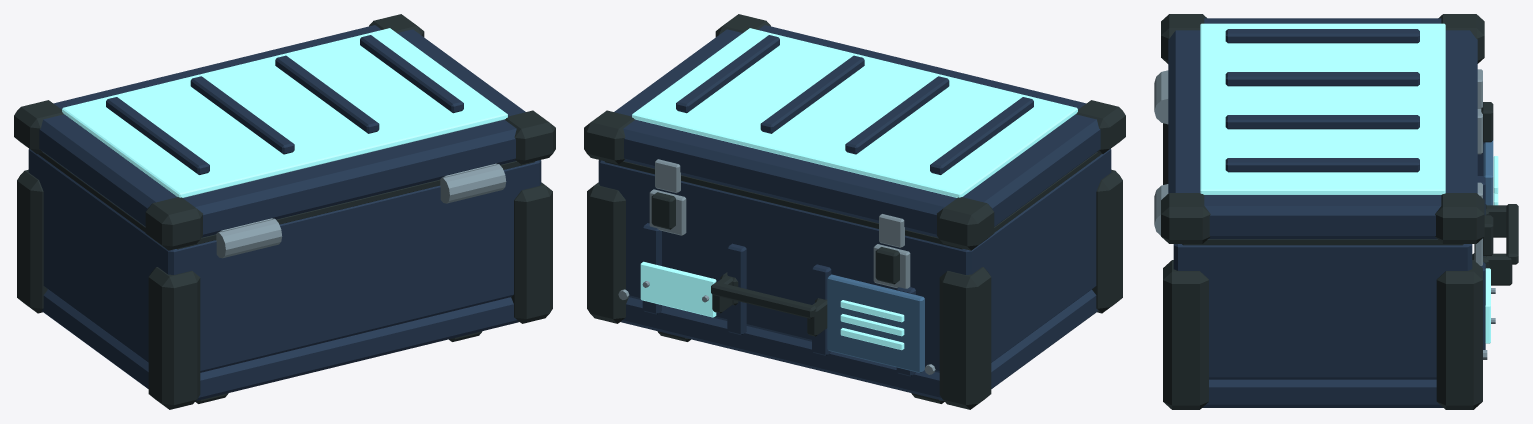
Rendered from marine_waterproof_case.glb.
The picture shows the model from 3 angles, left to right: view 1: azimuth 30°, elevation 25°; view 2: azimuth 150°, elevation 25°; view 3: azimuth 270°, elevation 25°; orthographic projection. The views are drawn at different scales.
Visible parts, largest first — view 1: body_back_wall, moving_lid_inset, moving_lid_shell, corner_guard (×3), body_left_wall, body_floor, moving_lid_rib (×4), moving_lid_corner (×4), hinge_body (×2), gasket_back, gasket_side; view 2: moving_lid_inset, moving_lid_shell, body_front_wall, corner_guard (×3), body_left_wall, body_floor, moving_lid_rib (×4), moving_lid_corner (×4), front_identity_panel, body_reinforcement (×3), type_plate, gasket_front (+7 smaller); view 3: body_right_wall, moving_lid_inset, moving_lid_shell, corner_guard (×3), moving_lid_rib (×4), body_floor, moving_lid_corner (×4), gasket_side, hinge_body (×2), latch_release (×2), carry_handle_bar, carry_handle_right (+3 smaller).
Boxes of the visible parts, bbox=[...] form: body_back_wall: bbox=[161, 161, 539, 372]; moving_lid_inset: bbox=[62, 28, 507, 197]; moving_lid_shell: bbox=[39, 25, 525, 237]; corner_guard (×3): bbox=[17, 169, 552, 409]; body_left_wall: bbox=[28, 149, 185, 362]; body_floor: bbox=[41, 289, 518, 400]; moving_lid_rib (×4): bbox=[106, 35, 463, 174]; moving_lid_corner (×4): bbox=[14, 14, 555, 250]; hinge_body (×2): bbox=[216, 164, 506, 258]; gasket_back: bbox=[176, 161, 534, 249]; gasket_side: bbox=[38, 152, 145, 232]; moving_lid_inset: bbox=[632, 28, 1077, 197]; moving_lid_shell: bbox=[614, 25, 1100, 237]; body_front_wall: bbox=[600, 161, 978, 372]; corner_guard (×3): bbox=[587, 169, 1122, 409]; body_left_wall: bbox=[954, 154, 1104, 362]; body_floor: bbox=[621, 289, 1098, 400]; moving_lid_rib (×4): bbox=[676, 35, 1033, 174]; moving_lid_corner (×4): bbox=[584, 14, 1125, 250]; front_identity_panel: bbox=[827, 274, 924, 373]; body_reinforcement (×3): bbox=[642, 223, 831, 355]; type_plate: bbox=[640, 261, 716, 317]; gasket_front: bbox=[605, 161, 963, 249]; body_right_wall: bbox=[1173, 244, 1472, 379]; moving_lid_inset: bbox=[1200, 23, 1445, 194]; moving_lid_shell: bbox=[1168, 18, 1477, 239]; corner_guard (×3): bbox=[1163, 123, 1482, 409]; moving_lid_rib (×4): bbox=[1225, 29, 1419, 172]; body_floor: bbox=[1202, 379, 1443, 407]; moving_lid_corner (×4): bbox=[1161, 14, 1484, 243]; gasket_side: bbox=[1182, 239, 1463, 245]; hinge_body (×2): bbox=[1154, 70, 1168, 235]; latch_release (×2): bbox=[1481, 102, 1493, 255]; carry_handle_bar: bbox=[1506, 204, 1518, 264]; carry_handle_right: bbox=[1486, 253, 1512, 285].
Bounding box in the file's own units: 1.33 × 0.7425 × 1.02.
